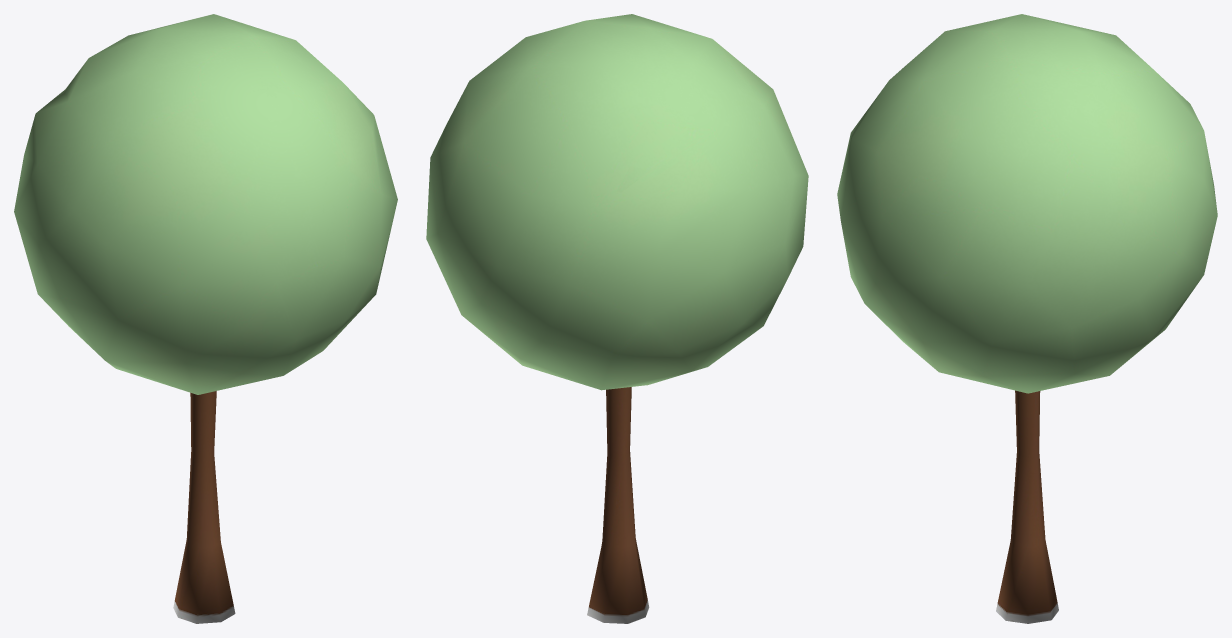
File: tree_lollipop.glb
3 renders of one model, left to right at view 1: azimuth 30°, elevation 25°; view 2: azimuth 150°, elevation 25°; view 3: azimuth 270°, elevation 25°, orthographic.
Parts seen in each view (by area): view 1: tripo_node_f5c93cb7-bf9a-4d26-8111-6e0202fad297; view 2: tripo_node_f5c93cb7-bf9a-4d26-8111-6e0202fad297; view 3: tripo_node_f5c93cb7-bf9a-4d26-8111-6e0202fad297.
Part boxes in pixels (x1,y1,x2,y2): tripo_node_f5c93cb7-bf9a-4d26-8111-6e0202fad297: (14,14,397,623); tripo_node_f5c93cb7-bf9a-4d26-8111-6e0202fad297: (426,14,808,623); tripo_node_f5c93cb7-bf9a-4d26-8111-6e0202fad297: (837,14,1217,623).
Size of the model in its own units: 0.6074 by 0.998 by 0.5996.
1 material, 1 textured.
